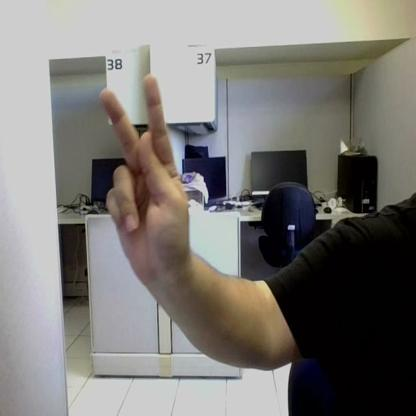K: (100, 75, 188, 281)
